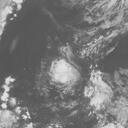cyclone: (50, 58, 82, 87)
